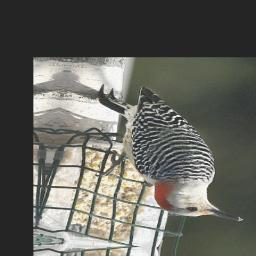Woodpecker: (75, 83, 256, 222)
